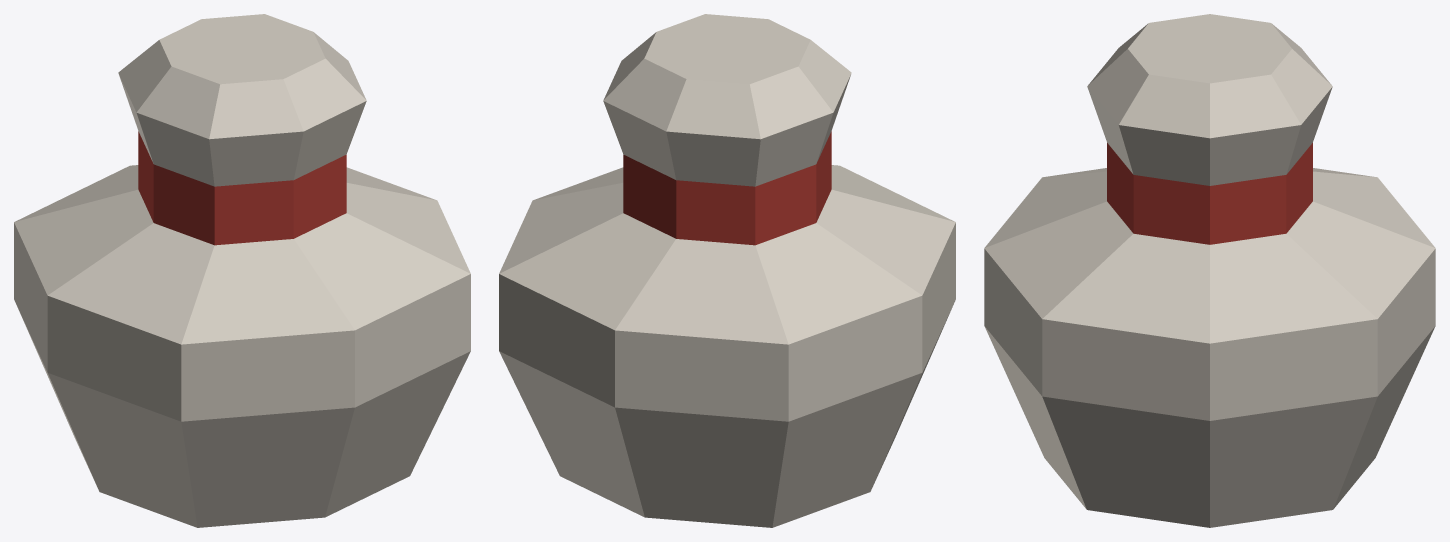
The model's file is bowling-pin.glb.
The picture shows the model from 3 angles, left to right: view 1: azimuth 30°, elevation 25°; view 2: azimuth 150°, elevation 25°; view 3: azimuth 270°, elevation 25°; orthographic projection.
Size of the model in its own units: 1 by 1 by 1.
